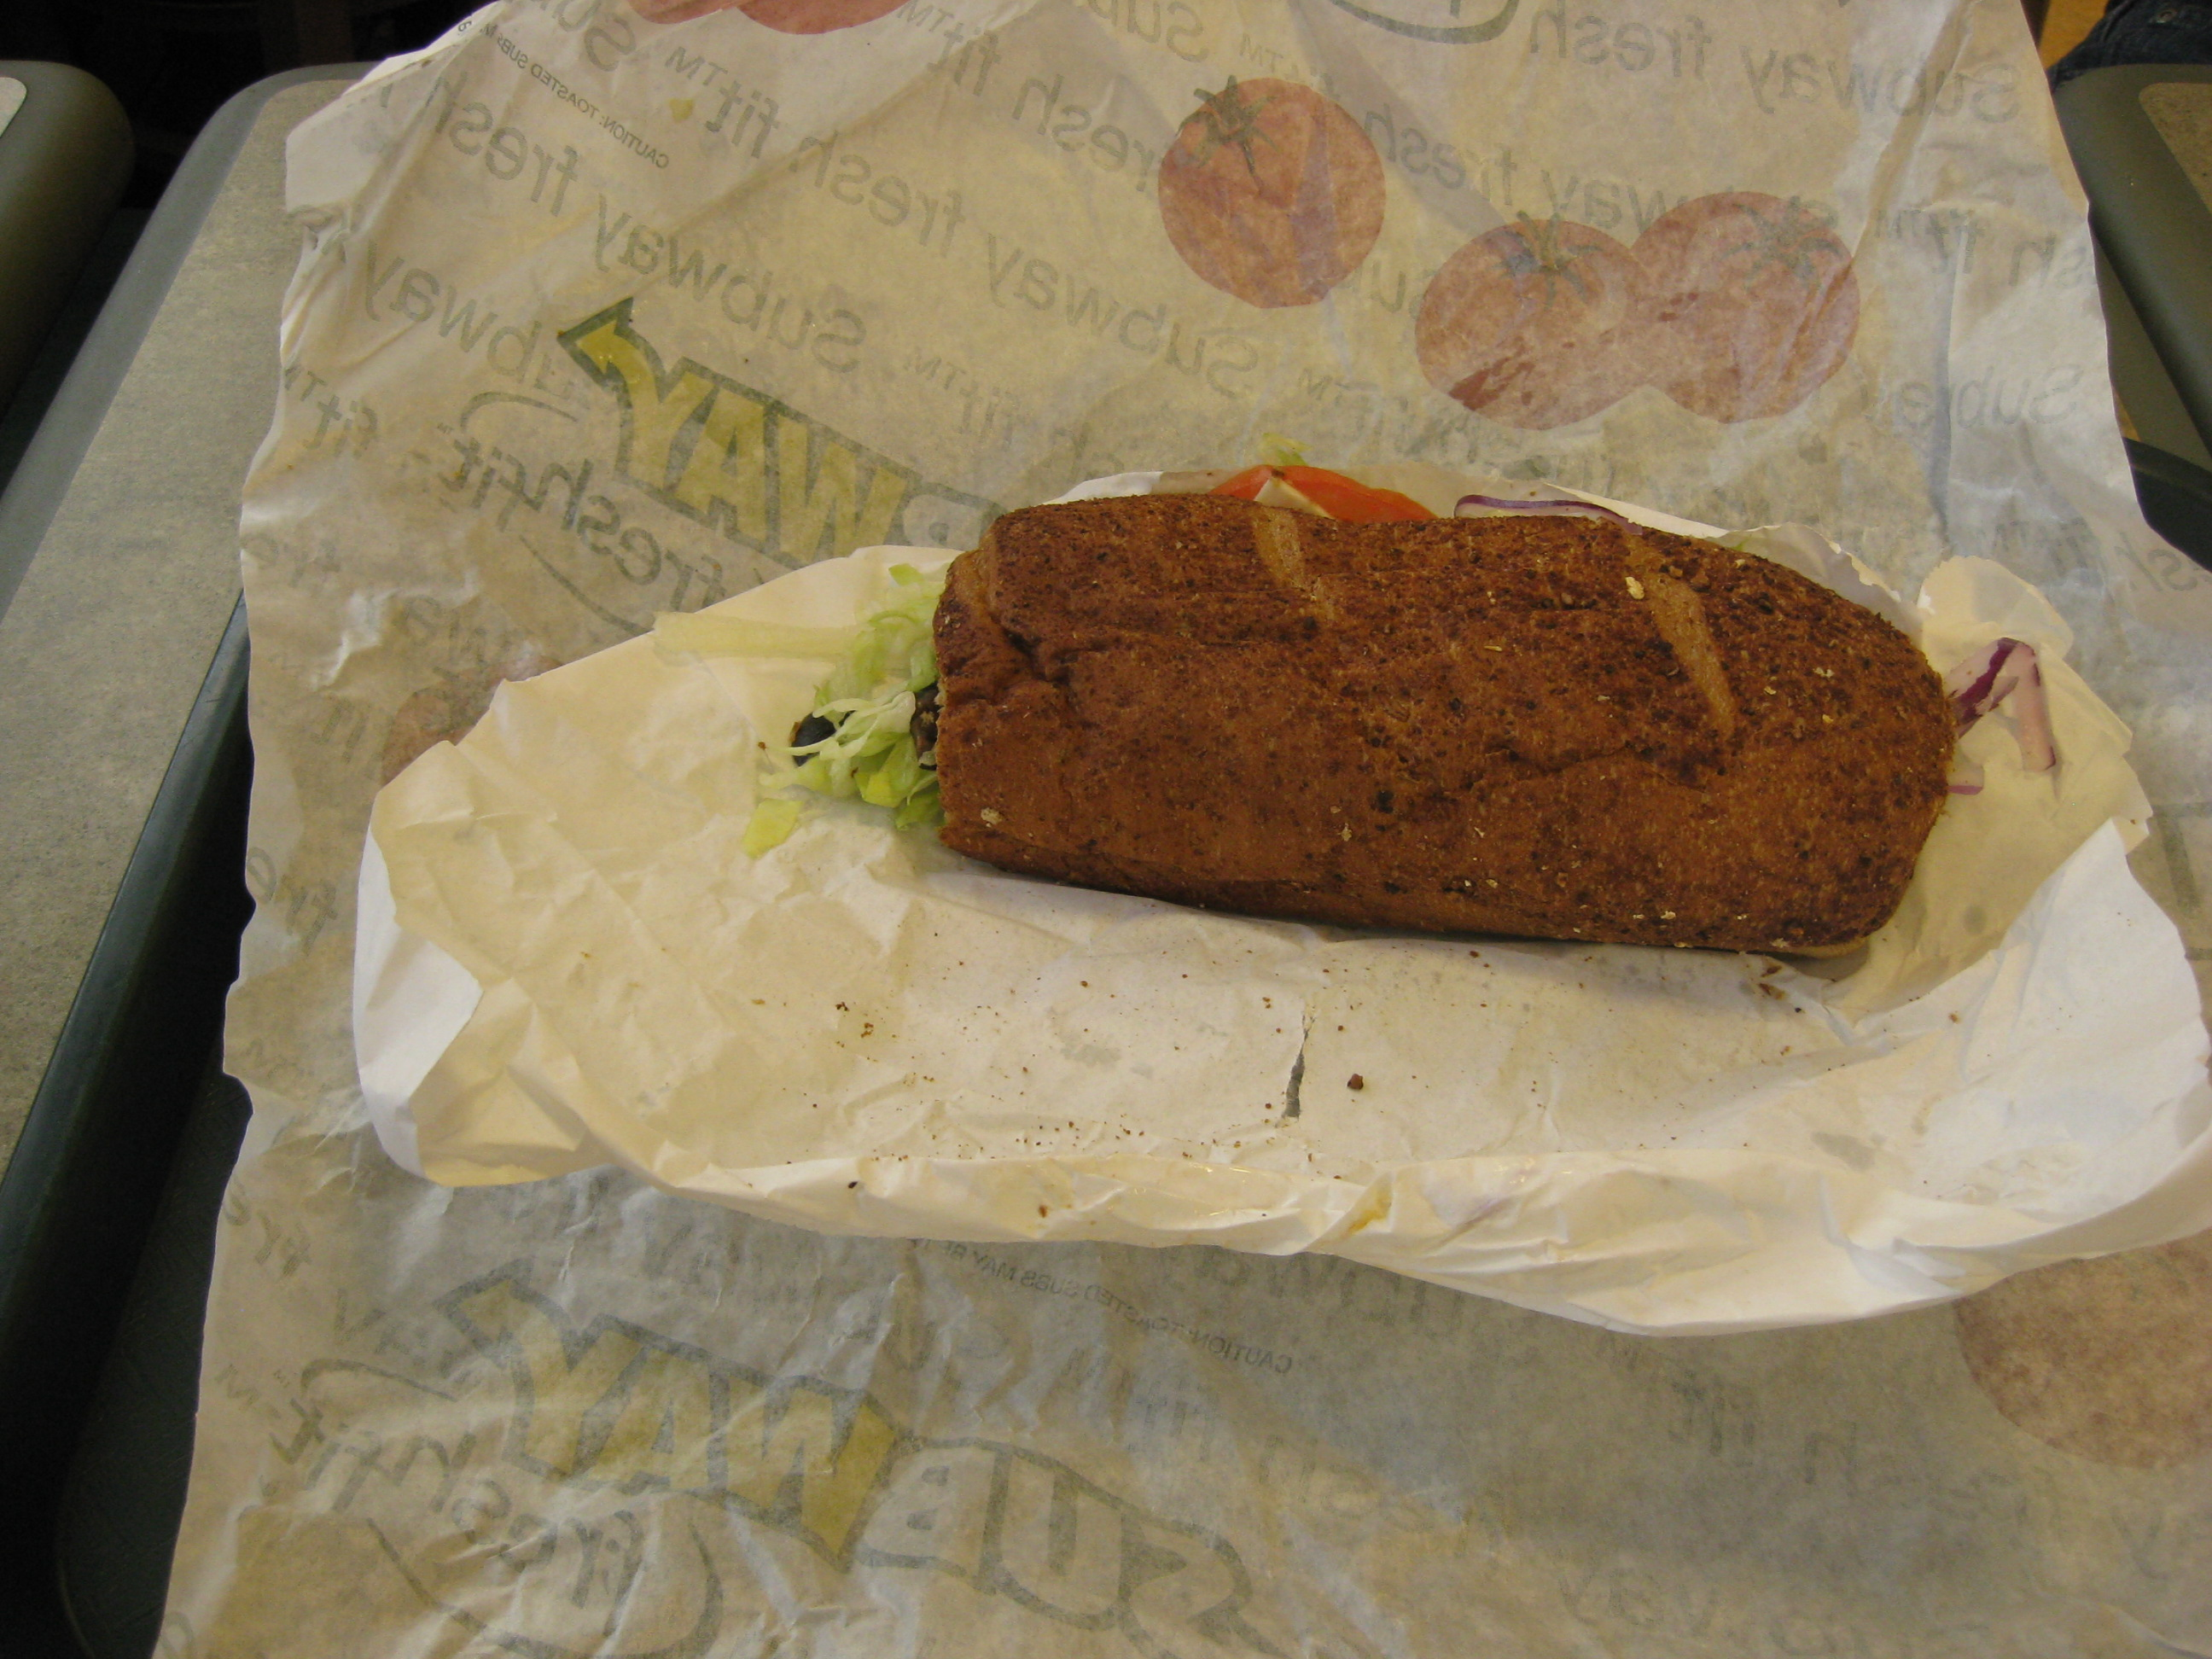sub: (851, 495, 2082, 995)
